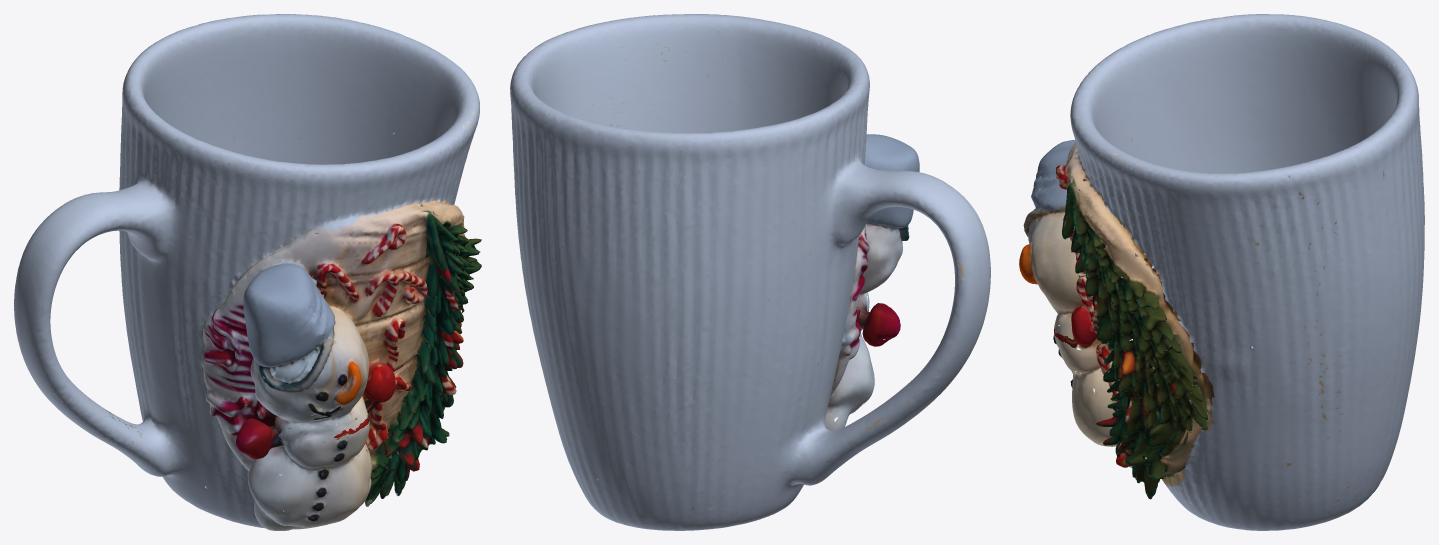
The model's file is kruzhka2-fixed.glb.
3 renders of one model, left to right at view 1: azimuth 30°, elevation 25°; view 2: azimuth 150°, elevation 25°; view 3: azimuth 270°, elevation 25°, orthographic. The views are drawn at different scales.
Parts seen in each view (by area): view 1: model; view 2: model; view 3: model.
Boxes of the visible parts, x1,y1,x2,y2 form: model: (14, 14, 481, 530); model: (510, 14, 990, 530); model: (1019, 14, 1424, 530).
Size of the model in its own units: 1.58 by 1.46 by 1.27.
3 materials, 1 textured.
